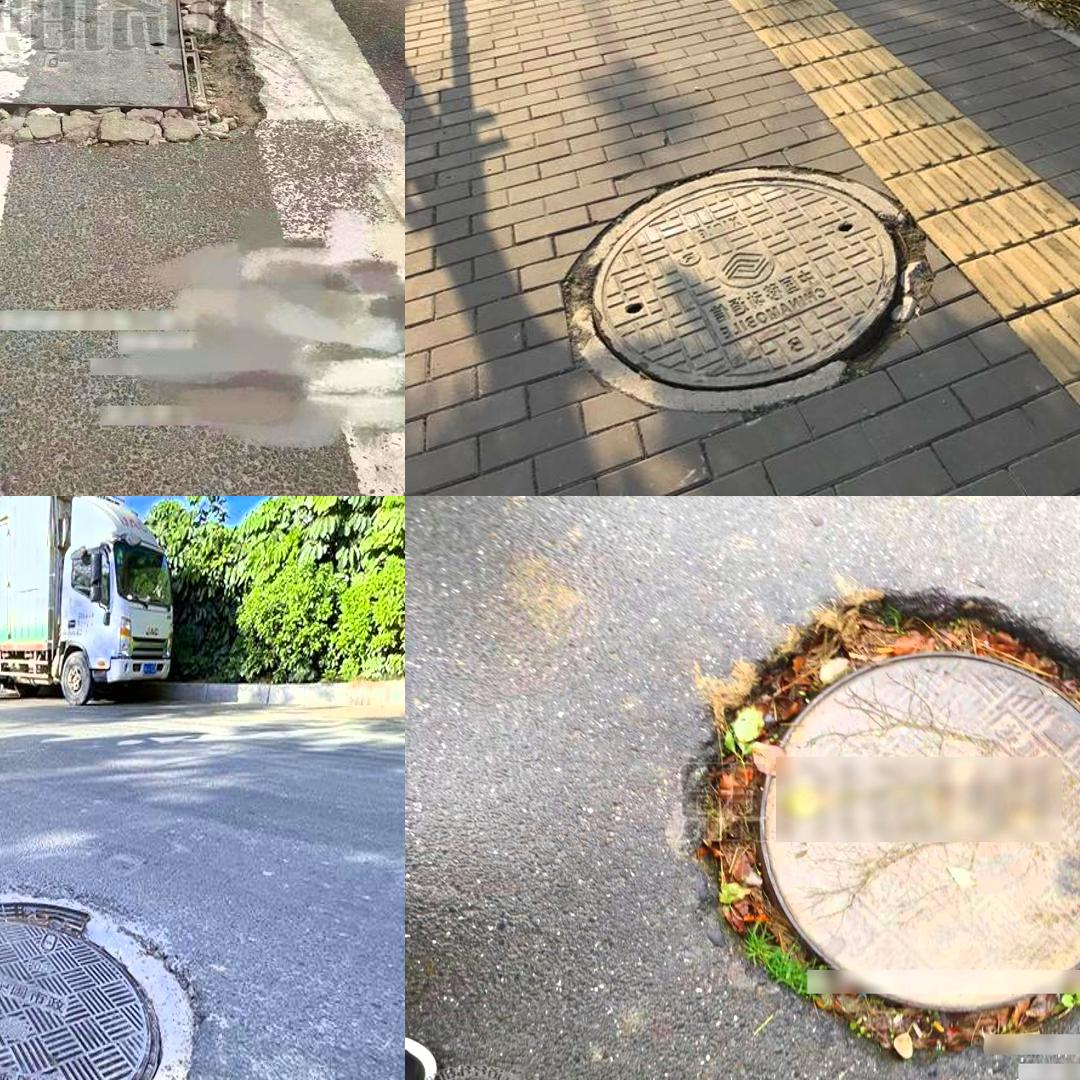circle: (682, 594, 1080, 1053), (557, 166, 931, 411), (0, 856, 250, 1080), (0, 213, 174, 496)
